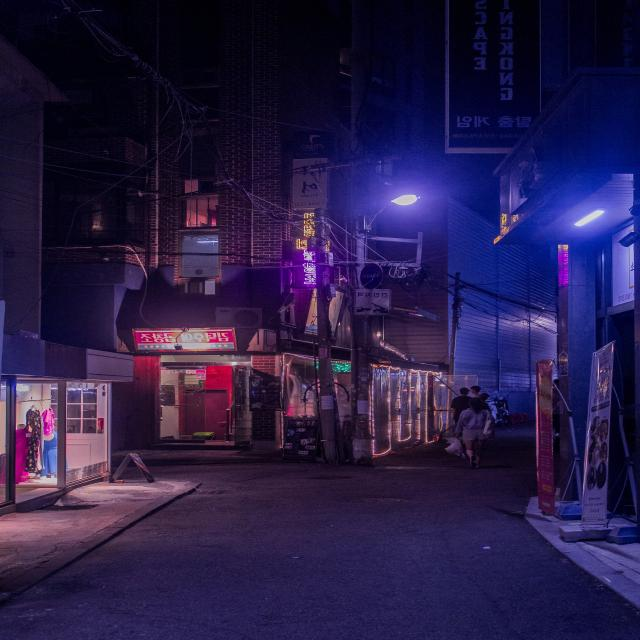adult: (454, 396, 498, 470)
